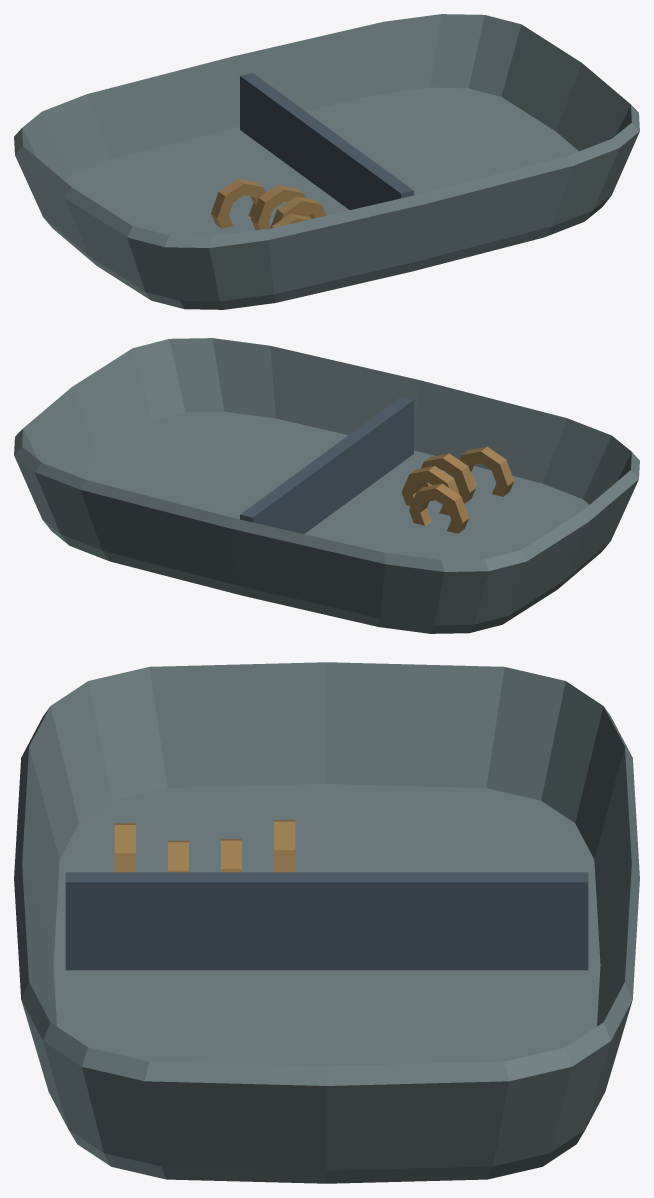
File: T-06_parts_tray.glb
3 renders of one model, top to bottom at view 1: azimuth 30°, elevation 25°; view 2: azimuth 150°, elevation 25°; view 3: azimuth 270°, elevation 25°, orthographic. The views are drawn at different scales.
Parts seen in each view (by area): view 1: T-06_parts_tray; view 2: T-06_parts_tray; view 3: T-06_parts_tray.
Boxes of the visible parts, x1,y1,x2,y2 form: T-06_parts_tray: [14, 14, 639, 309]; T-06_parts_tray: [14, 338, 639, 633]; T-06_parts_tray: [14, 662, 639, 1183].
Bounding box in the file's own units: 0.37 × 0.057 × 0.236.
